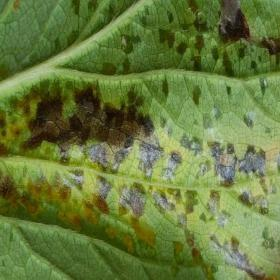Angular Leafspot: (0, 0, 279, 279)
